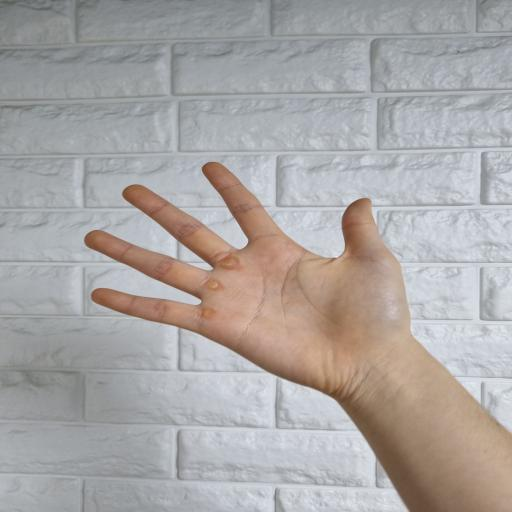Paper: (84, 161, 412, 394)
